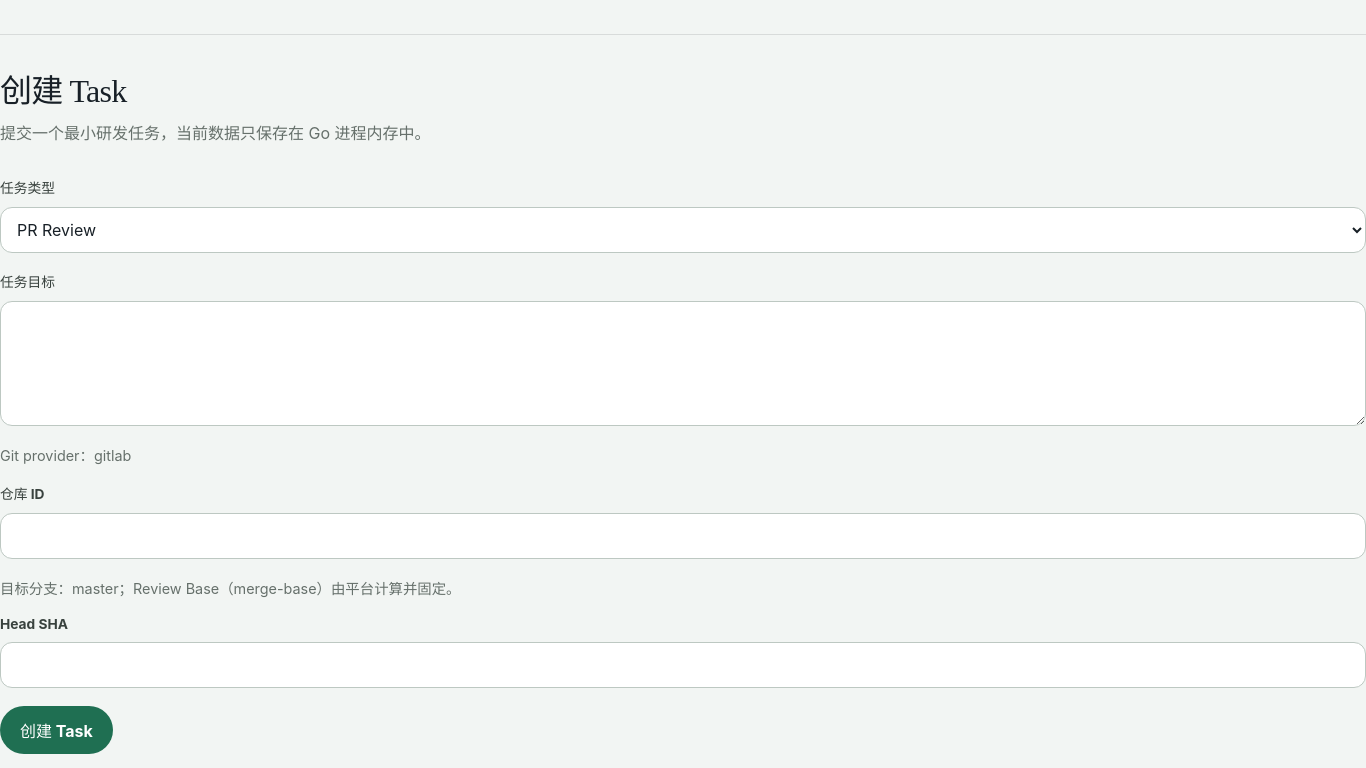
Scenario: TaskWorkspace › adds a newly created task to the recent list
In the text box labelled "任务目标": (683, 363) [0,301,1365,426], type "Review pull request 42"
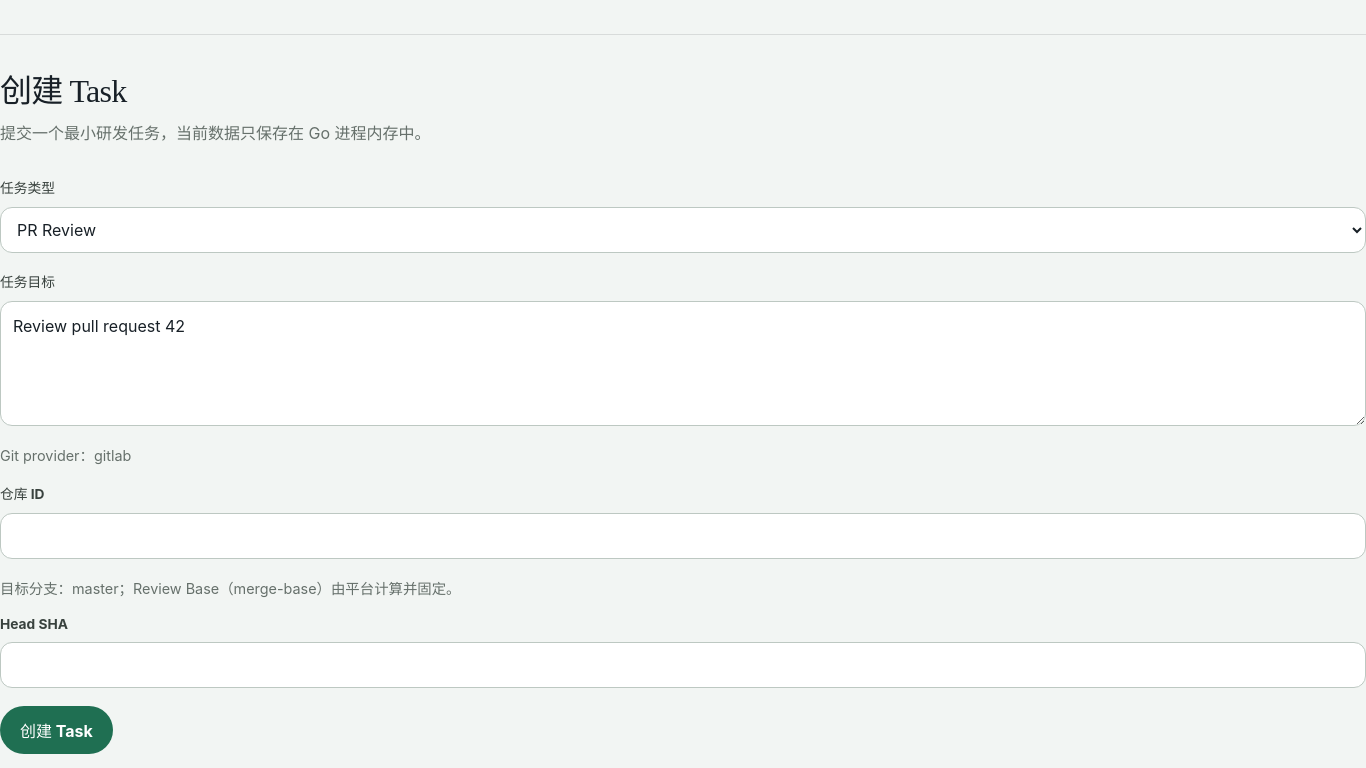
In the field labelled "仓库 ID": (683, 536) [0,513,1365,559], type "project-7"
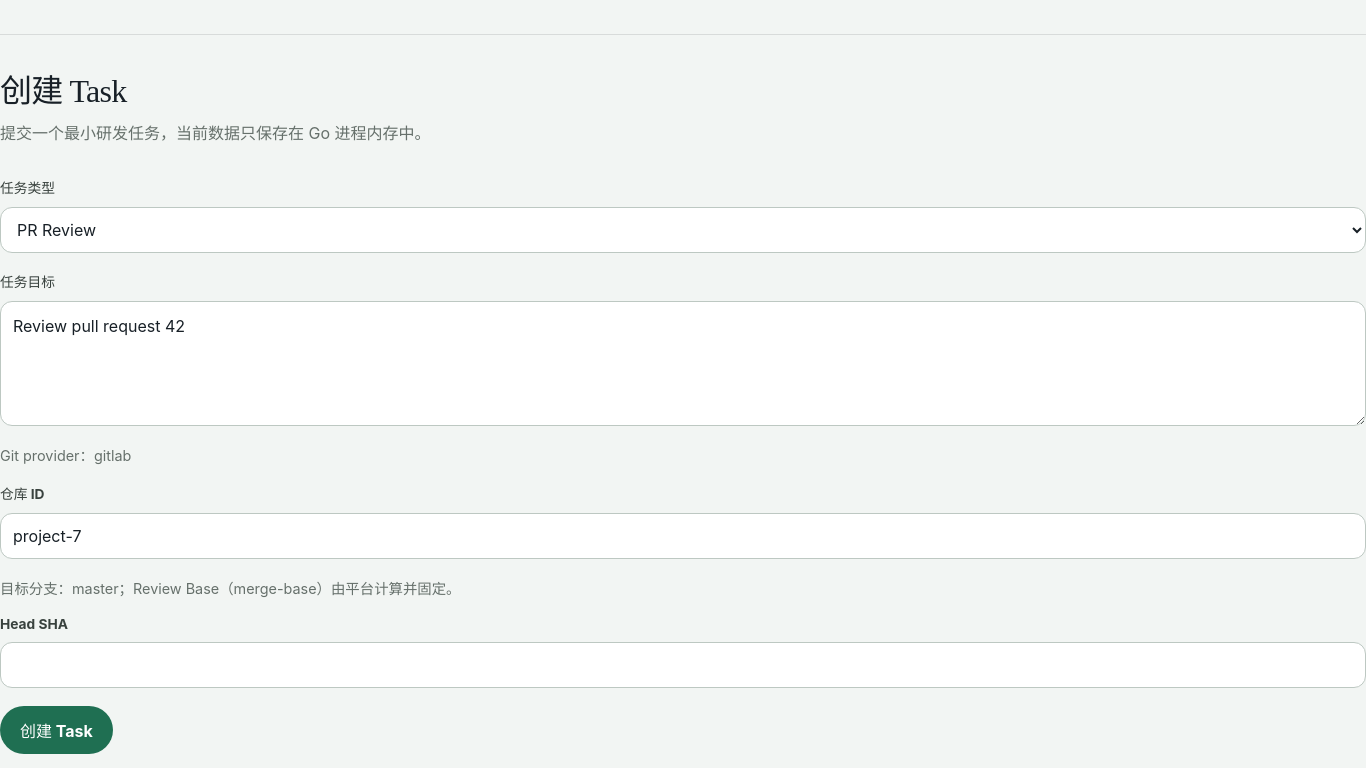
In the field labelled "Head SHA": (683, 665) [0,642,1365,688], type "2222222222222222222222222222222222222222"
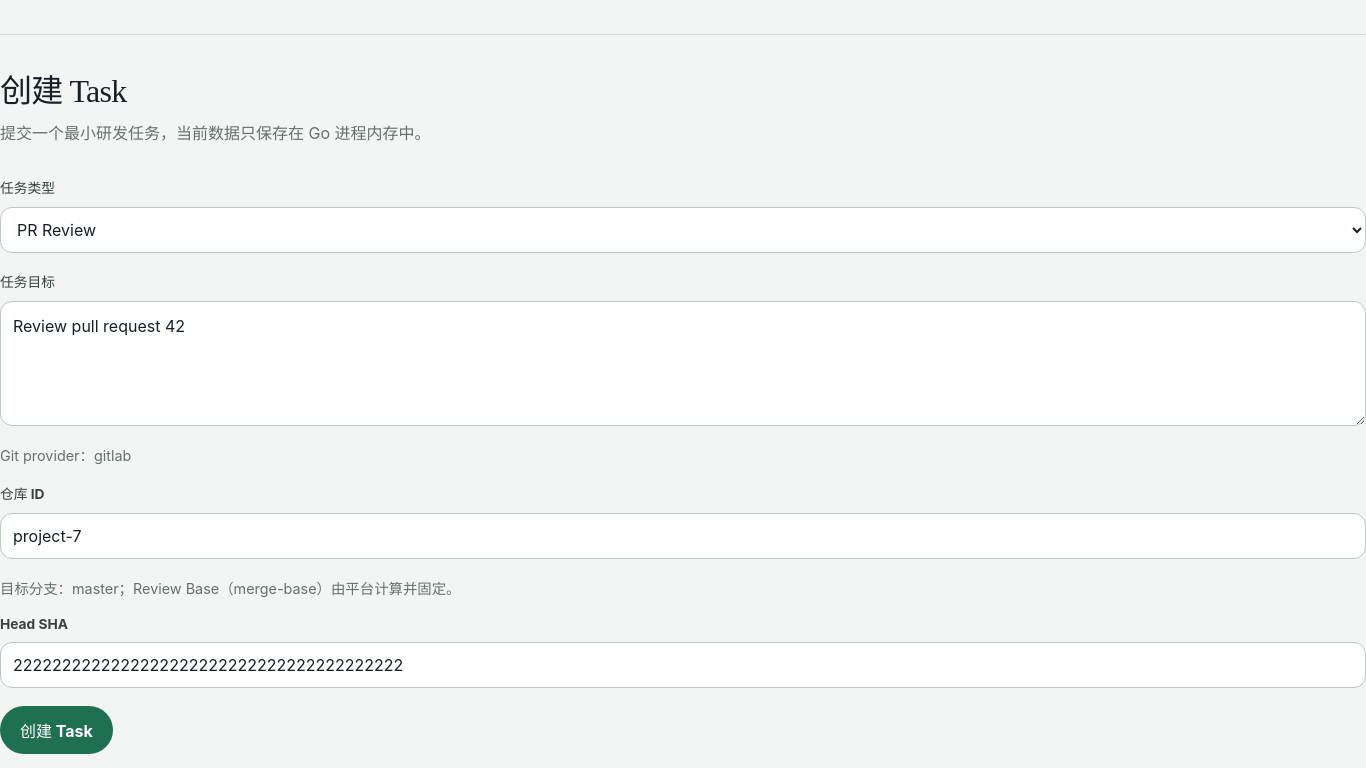
Click the button "创建 Task": (56, 730) [0,706,113,754]
(page scrolled)
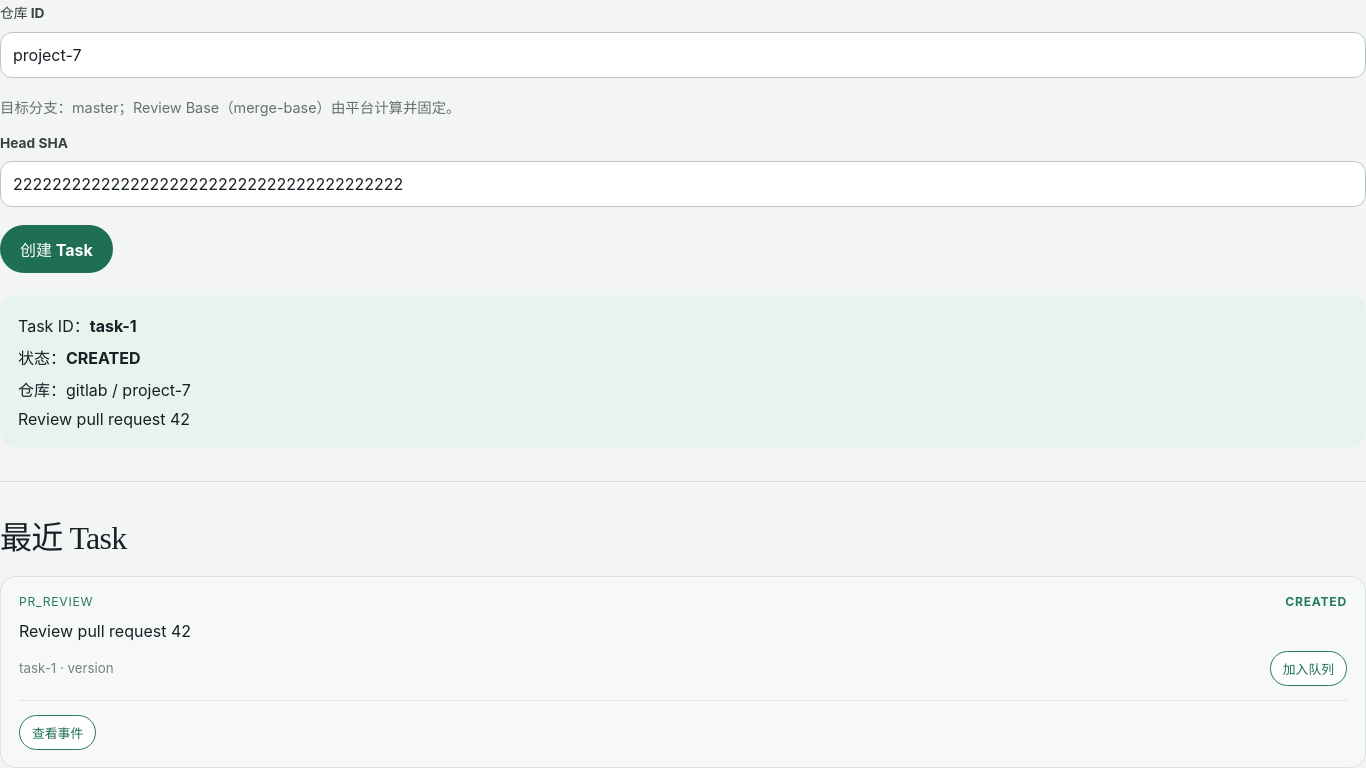
expect the text "Review pull request 42" below "PR_REVIEW" is shown: met, box [19,621,191,641]
